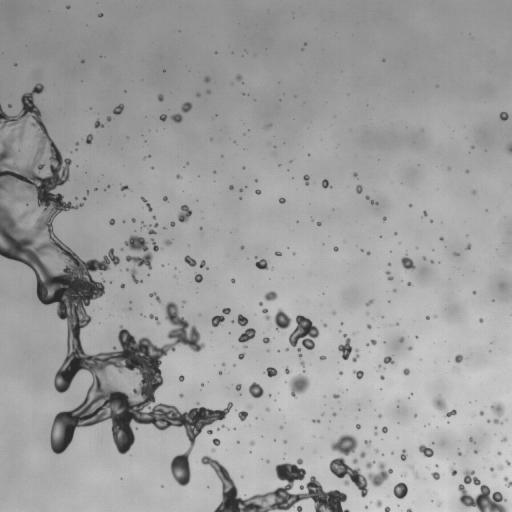droplet: (329, 457, 393, 497), (289, 315, 319, 350), (124, 235, 152, 268), (330, 434, 357, 456), (288, 374, 309, 397), (274, 309, 291, 330), (338, 334, 352, 359), (238, 328, 255, 347), (393, 482, 407, 499), (249, 382, 263, 398), (178, 205, 191, 222), (401, 255, 415, 269), (490, 402, 504, 416), (418, 444, 433, 457), (184, 255, 196, 266), (255, 259, 268, 269), (264, 367, 277, 377), (237, 314, 247, 326), (264, 291, 277, 300), (181, 102, 191, 112), (113, 104, 123, 114), (353, 370, 363, 379), (171, 114, 182, 122), (383, 356, 394, 364), (238, 411, 247, 420), (499, 112, 508, 120), (454, 354, 462, 363), (504, 477, 511, 487), (400, 449, 406, 460), (94, 120, 102, 128), (194, 274, 202, 282), (322, 179, 329, 188), (303, 175, 309, 185), (148, 228, 156, 235), (366, 461, 374, 468), (431, 472, 439, 479), (86, 134, 92, 143), (213, 438, 220, 445), (356, 185, 362, 193), (157, 94, 163, 101), (160, 114, 166, 121), (263, 337, 270, 343), (238, 353, 245, 359), (403, 368, 409, 375), (376, 500, 382, 507), (120, 185, 128, 190), (370, 339, 376, 345), (364, 440, 370, 446), (451, 469, 457, 475), (109, 218, 114, 225), (200, 260, 205, 267), (285, 367, 290, 374), (236, 384, 241, 391), (382, 426, 387, 433), (204, 76, 209, 82), (279, 198, 285, 203), (164, 240, 170, 245), (179, 375, 184, 381), (384, 506, 390, 511), (313, 419, 320, 423), (236, 75, 241, 80), (399, 337, 404, 342), (360, 452, 365, 457), (352, 458, 357, 463), (255, 190, 261, 194), (333, 394, 339, 398), (414, 471, 418, 477), (229, 185, 233, 190), (163, 196, 167, 201), (170, 221, 174, 226), (466, 244, 470, 249), (334, 246, 338, 251), (300, 361, 304, 366), (356, 424, 360, 429), (207, 430, 212, 434), (506, 460, 510, 465), (406, 508, 412, 511), (107, 116, 111, 120), (353, 172, 357, 176), (423, 211, 427, 215), (240, 245, 244, 249), (120, 284, 124, 288), (479, 318, 483, 322), (367, 324, 371, 328), (380, 375, 384, 379), (502, 437, 506, 441), (250, 441, 254, 445), (497, 451, 501, 455), (176, 175, 181, 178), (275, 252, 280, 255), (320, 356, 325, 359), (99, 13, 102, 17), (365, 196, 369, 199), (383, 217, 386, 221), (132, 218, 135, 222), (154, 223, 158, 226), (317, 222, 321, 225), (367, 251, 370, 255), (231, 278, 234, 282), (480, 411, 483, 415), (469, 438, 473, 441), (409, 466, 413, 469), (498, 466, 502, 469), (440, 237, 443, 240), (454, 252, 457, 255), (408, 282, 411, 285), (259, 302, 262, 305), (426, 316, 429, 319), (323, 324, 326, 327), (408, 346, 411, 349), (339, 371, 342, 374), (212, 448, 215, 451), (375, 449, 378, 452), (490, 467, 493, 470), (66, 6, 69, 8), (207, 90, 209, 93), (197, 93, 199, 96), (9, 104, 11, 107), (472, 191, 475, 193), (21, 214, 24, 216), (153, 216, 155, 219), (423, 256, 425, 259), (388, 263, 391, 265), (472, 291, 475, 293), (222, 363, 225, 365), (378, 365, 381, 367), (180, 394, 182, 397), (332, 413, 335, 415), (487, 419, 489, 422), (284, 440, 286, 443), (458, 452, 460, 455), (76, 142, 78, 144), (94, 188, 96, 190), (240, 189, 242, 191), (86, 191, 88, 193), (409, 204, 411, 206), (142, 223, 144, 225), (231, 320, 233, 322), (286, 348, 288, 350), (266, 408, 268, 410), (222, 425, 224, 427), (374, 432, 376, 434), (474, 451, 476, 453), (267, 460, 269, 462), (438, 503, 440, 505)
ligament: (0, 83, 232, 486), (201, 456, 349, 511), (458, 470, 508, 511), (432, 396, 456, 417), (211, 308, 230, 326), (141, 197, 152, 211), (131, 269, 141, 283), (149, 292, 160, 302), (151, 238, 159, 251), (149, 314, 159, 324), (17, 126, 24, 139), (262, 308, 269, 320), (352, 349, 358, 362), (365, 299, 373, 306), (386, 271, 392, 280), (493, 418, 502, 424), (507, 143, 511, 154), (297, 348, 301, 357), (371, 201, 378, 204)
